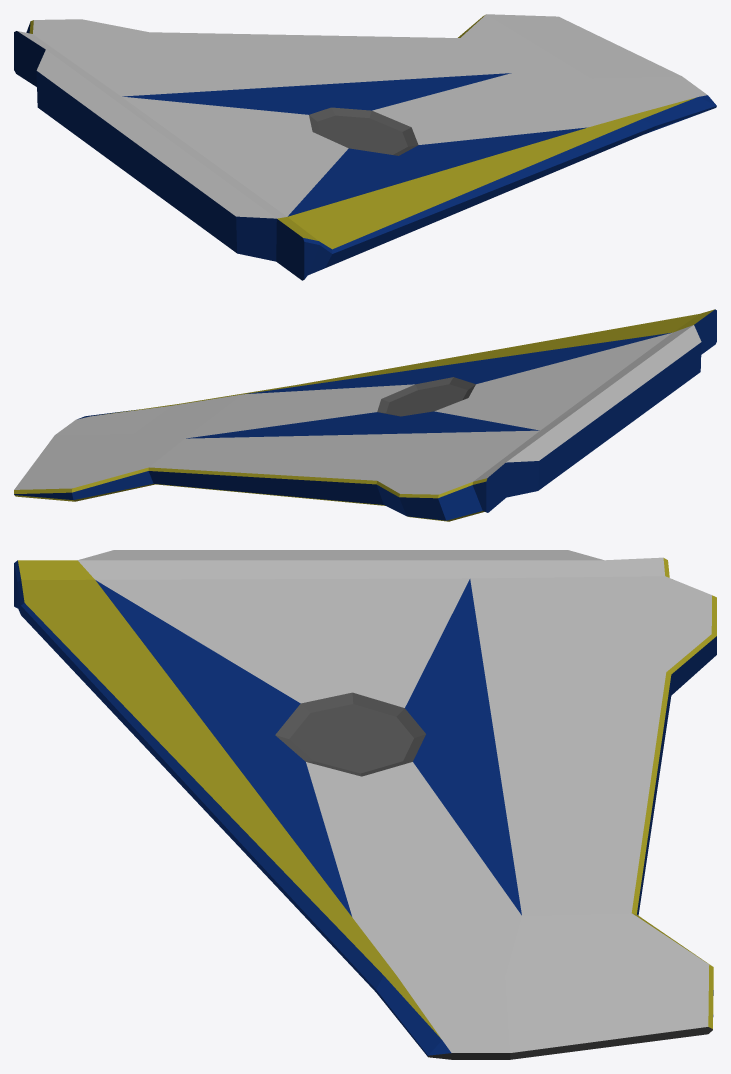
Rendered from Wing.fbx.
3 views of the same model, one above another, from view 1: azimuth 30°, elevation 25°; view 2: azimuth 150°, elevation 25°; view 3: azimuth 270°, elevation 25° (orthographic). The views are drawn at different scales.
Visible parts, largest first — view 1: Wing; view 2: Wing; view 3: Wing.
Boxes of the visible parts, box(x1,y1,x2,y2) form: Wing: box(14, 14, 716, 280); Wing: box(14, 309, 716, 521); Wing: box(14, 550, 716, 1059).
Bounding box in the file's own units: 287 × 66.36 × 247.
